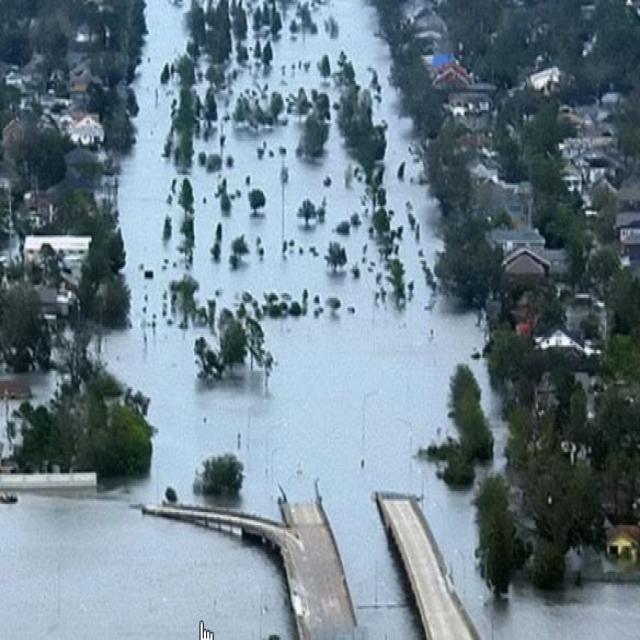flooded_areas: (111, 8, 502, 638)
